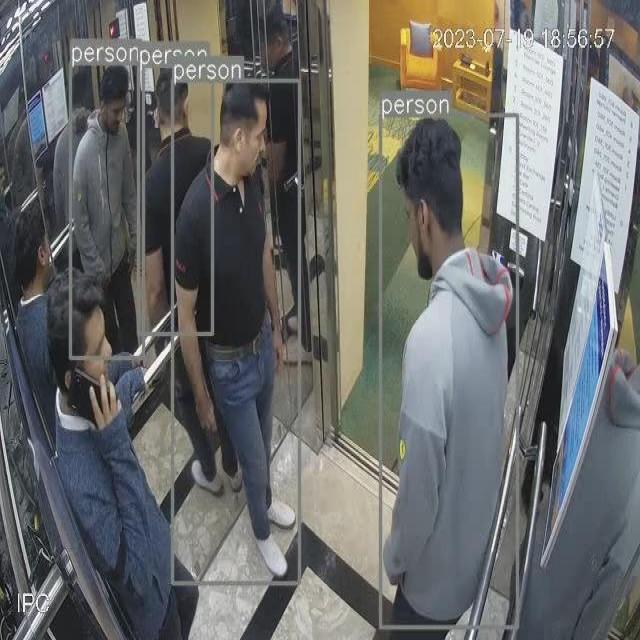person: (383, 116, 519, 632), (176, 81, 301, 587), (46, 268, 176, 636), (73, 65, 139, 360), (143, 61, 211, 338)
